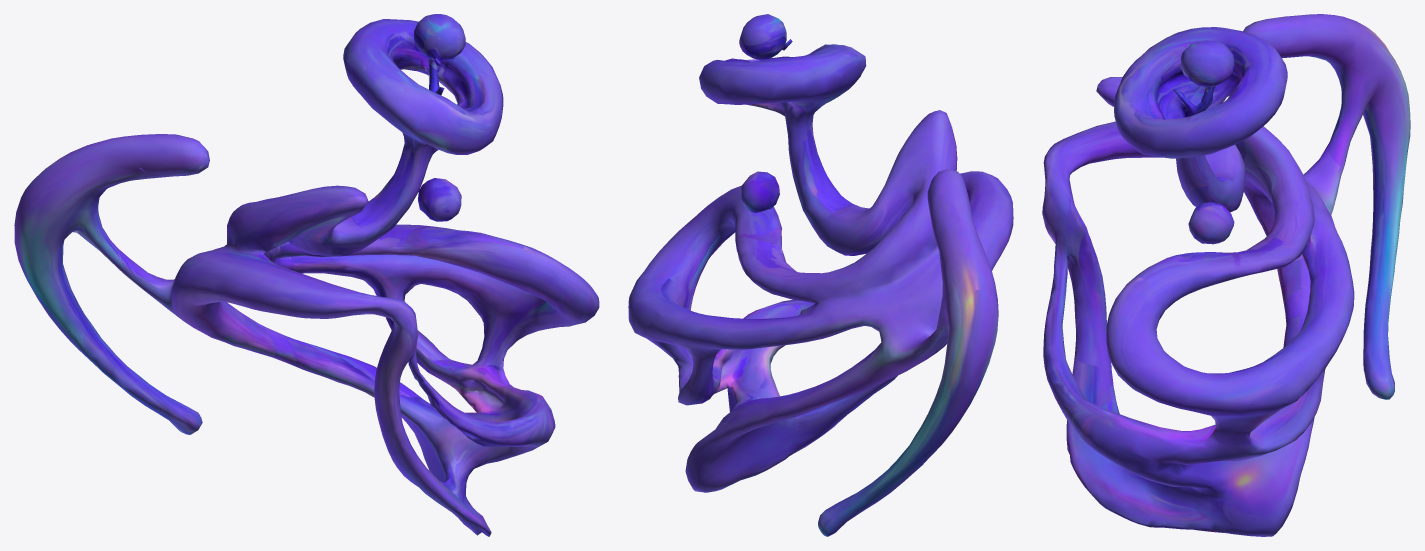
Rendered from Neon_Whirl_0412032222_texture.glb.
3 views of the same model, side by side, from view 1: azimuth 30°, elevation 25°; view 2: azimuth 150°, elevation 25°; view 3: azimuth 270°, elevation 25° (orthographic). The views are drawn at different scales.
Size of the model in its own units: 1.97 by 2 by 1.4.
1 material, 1 textured.
